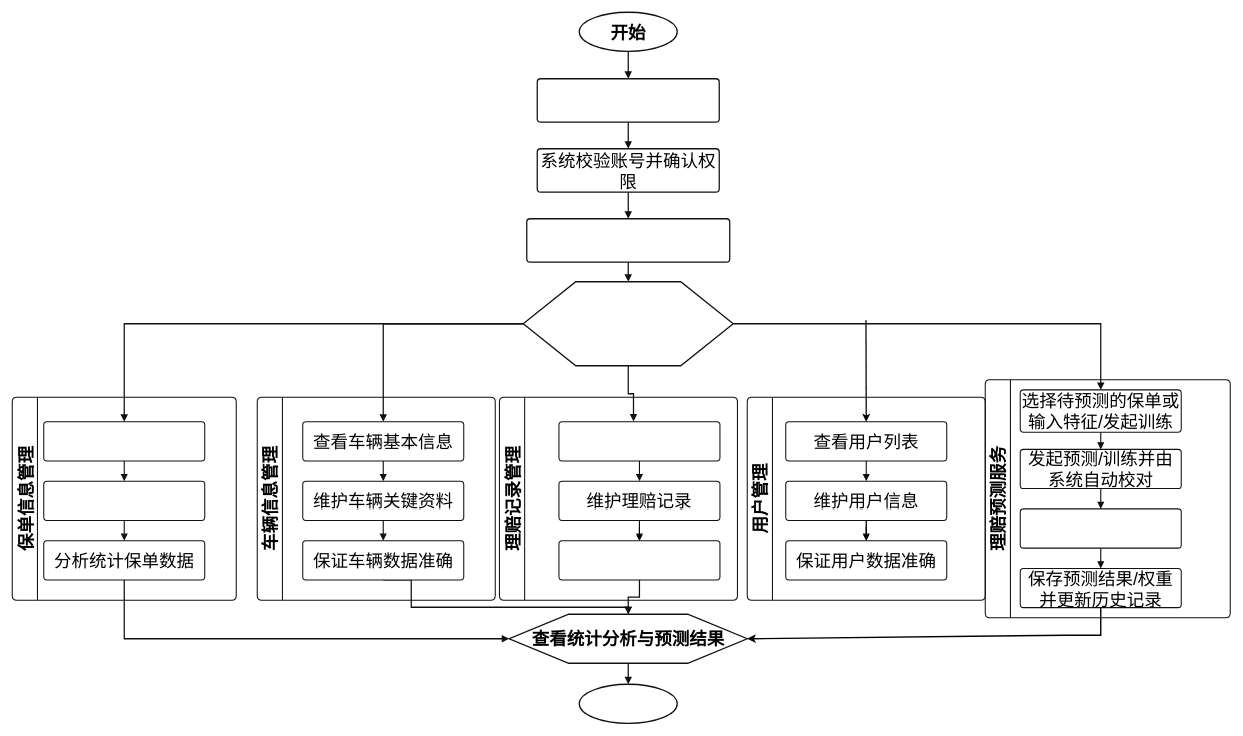
Some shapes in this 1243 by 736 pixel diagram are drawn without their labels. Here are the shapes that lost their labels. From the top down, the centre of each, then its label:
At point 628,100: "用户输入工号与密码".
At point 628,240: "进入系统首页查看业务总览".
At point 628,323: "进入功能入口选择业务".
At point 124,441: "查看保单列表".
At point 639,441: "查看理赔类记录列表".
At point 124,500: "新增或编辑保单信息".
At point 1100,528: "完成风险评估/训练".
At point 639,560: "分析统计理赔数据".
At point 628,703: "结束".
